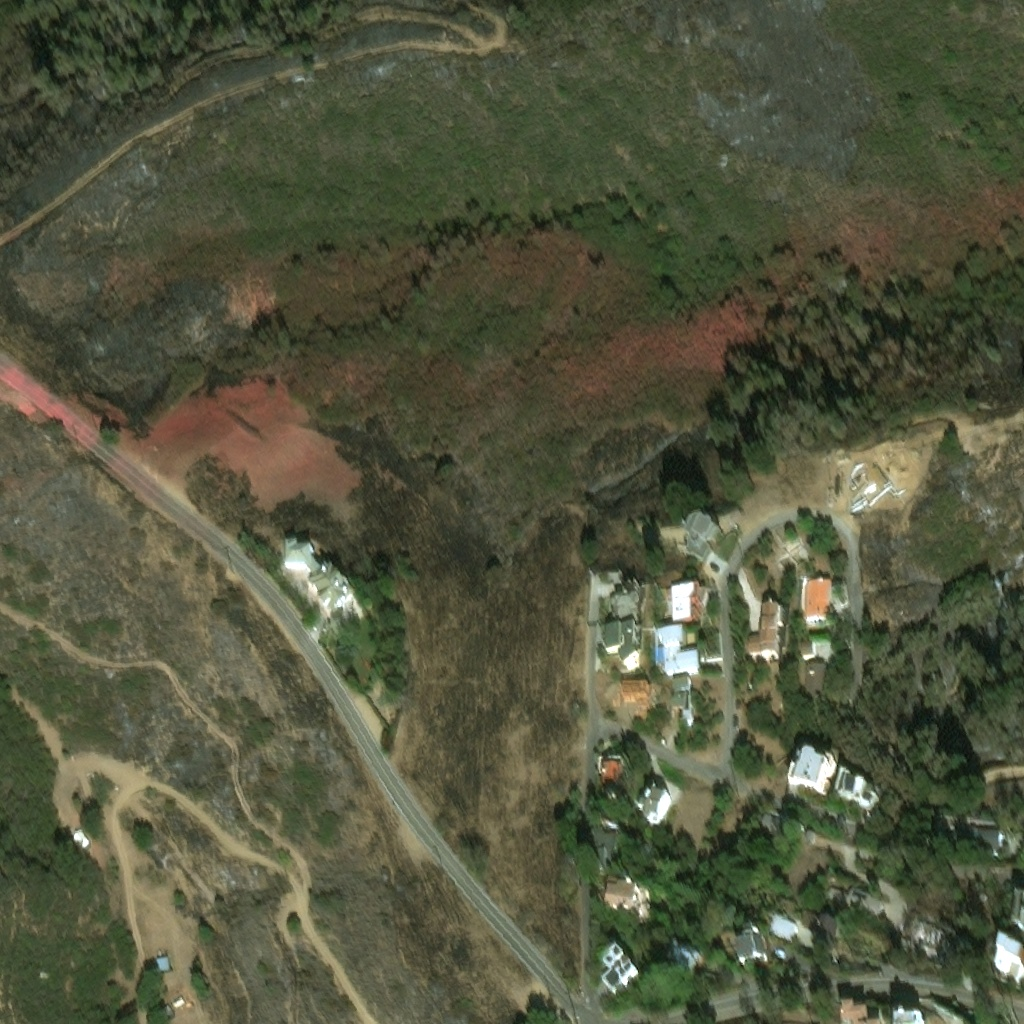0 no-damage: (282, 538, 366, 637), (768, 897, 820, 949), (907, 918, 963, 966), (785, 746, 834, 795), (825, 886, 886, 925), (601, 873, 653, 917), (600, 944, 642, 994), (832, 771, 880, 814), (655, 626, 701, 670), (850, 454, 891, 495), (747, 605, 779, 656), (604, 624, 643, 665), (951, 819, 1000, 850), (990, 941, 1023, 985), (684, 519, 718, 561), (670, 585, 706, 622), (665, 943, 703, 978), (591, 825, 622, 867), (609, 581, 641, 621), (734, 928, 766, 965), (596, 753, 625, 793), (634, 786, 667, 820), (803, 576, 830, 616), (670, 675, 691, 720), (755, 810, 786, 840), (621, 681, 650, 707), (801, 660, 825, 691), (840, 1003, 870, 1023), (816, 917, 839, 941), (151, 949, 171, 971), (655, 792, 670, 821), (69, 824, 88, 844), (1012, 899, 1023, 931), (159, 998, 176, 1016), (895, 1013, 925, 1023), (798, 639, 815, 653), (624, 657, 639, 668), (976, 890, 987, 903), (752, 910, 760, 920), (605, 648, 618, 652)
